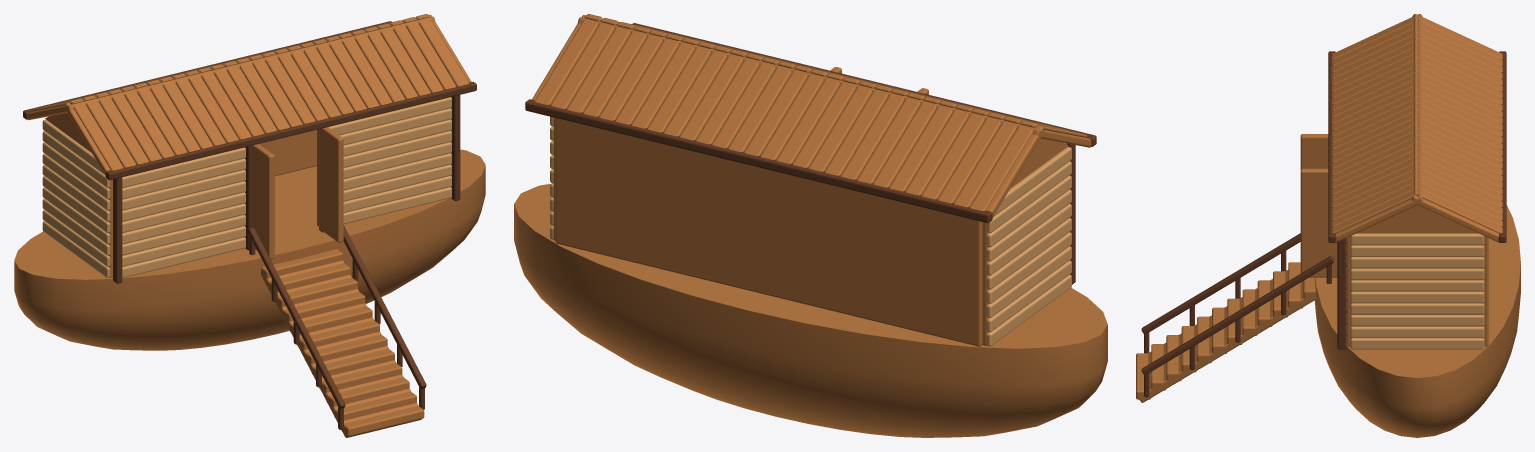
Rendered from ark-review.glb.
3 renders of one model, left to right at view 1: azimuth 30°, elevation 25°; view 2: azimuth 150°, elevation 25°; view 3: azimuth 270°, elevation 25°, orthographic. The views are drawn at different scales.
Parts seen in each view (by area): view 1: Ark_Hull, Ark_Roof_Front_Planks, Ark_Front_Siding_Planks, Ark_Boarding_Stair_Treads, Ark_End_Siding_Planks, Ark_Roof_Eave_Beams, Ark_Boarding_Stair_Base, Ark_Door_Right_Open, Ark_Door_And_Corner_Posts, Ark_Door_Left_Open, Ark_Cabin_Back, Ark_Stair_Handrail_Left (+6 smaller); view 2: Ark_Hull, Ark_Cabin_Back, Ark_Roof_Back_Planks, Ark_End_Siding_Planks, Ark_Roof_Eave_Beams, Ark_Roof_Front_Planks, Ark_Roof_Back, Ark_Roof_Front, Ark_Roof_Gables, Ark_Cabin_End_Left, Ark_Door_And_Corner_Posts; view 3: Ark_Hull, Ark_Roof_Back_Planks, Ark_Roof_Front_Planks, Ark_End_Siding_Planks, Ark_Boarding_Stair_Treads, Ark_Door_Right_Open, Ark_Boarding_Stair_Base, Ark_Roof_Eave_Beams, Ark_Roof_Gables, Ark_Stair_Handrail_Right, Ark_Stair_Handrail_Left, Ark_Stair_Railing_Posts (+7 smaller).
Part boxes in pixels (x1=…): Ark_Hull: x1=14, y1=149, x2=485, y2=350; Ark_Roof_Front_Planks: x1=70, y1=14, x2=469, y2=170; Ark_Front_Siding_Planks: x1=122, y1=97, x2=451, y2=278; Ark_Boarding_Stair_Treads: x1=261, y1=249, x2=424, y2=436; Ark_End_Siding_Planks: x1=42, y1=119, x2=110, y2=277; Ark_Roof_Eave_Beams: x1=23, y1=21, x2=476, y2=180; Ark_Boarding_Stair_Base: x1=261, y1=260, x2=421, y2=437; Ark_Door_Right_Open: x1=319, y1=127, x2=343, y2=242; Ark_Door_And_Corner_Posts: x1=113, y1=95, x2=460, y2=283; Ark_Door_Left_Open: x1=251, y1=144, x2=274, y2=259; Ark_Cabin_Back: x1=47, y1=116, x2=316, y2=175; Ark_Stair_Handrail_Left: x1=247, y1=227, x2=345, y2=408; Ark_Hull: x1=514, y1=183, x2=1107, y2=437; Ark_Cabin_Back: x1=555, y1=118, x2=982, y2=346; Ark_Roof_Back_Planks: x1=535, y1=14, x2=1037, y2=210; Ark_End_Siding_Planks: x1=550, y1=116, x2=1071, y2=346; Ark_Roof_Eave_Beams: x1=525, y1=23, x2=1096, y2=223; Ark_Roof_Front_Planks: x1=584, y1=15, x2=1086, y2=137; Ark_Roof_Back: x1=532, y1=15, x2=1044, y2=217; Ark_Roof_Front: x1=577, y1=17, x2=1091, y2=147; Ark_Roof_Gables: x1=1011, y1=138, x2=1068, y2=187; Ark_Cabin_End_Left: x1=982, y1=146, x2=1067, y2=345; Ark_Door_And_Corner_Posts: x1=1066, y1=143, x2=1075, y2=284; Ark_Hull: x1=1314, y1=205, x2=1520, y2=437; Ark_Roof_Back_Planks: x1=1414, y1=14, x2=1502, y2=233; Ark_Roof_Front_Planks: x1=1332, y1=14, x2=1420, y2=233; Ark_End_Siding_Planks: x1=1350, y1=233, x2=1484, y2=349; Ark_Boarding_Stair_Treads: x1=1136, y1=262, x2=1315, y2=399; Ark_Door_Right_Open: x1=1300, y1=168, x2=1337, y2=277; Ark_Boarding_Stair_Base: x1=1139, y1=270, x2=1315, y2=402; Ark_Roof_Eave_Beams: x1=1328, y1=51, x2=1506, y2=242; Ark_Roof_Gables: x1=1357, y1=205, x2=1477, y2=233; Ark_Stair_Handrail_Right: x1=1141, y1=256, x2=1334, y2=374; Ark_Stair_Handrail_Left: x1=1141, y1=233, x2=1300, y2=334; Ark_Stair_Railing_Posts: x1=1144, y1=250, x2=1331, y2=397.
Size of the model in its own units: 18 by 10.19 by 12.65.
